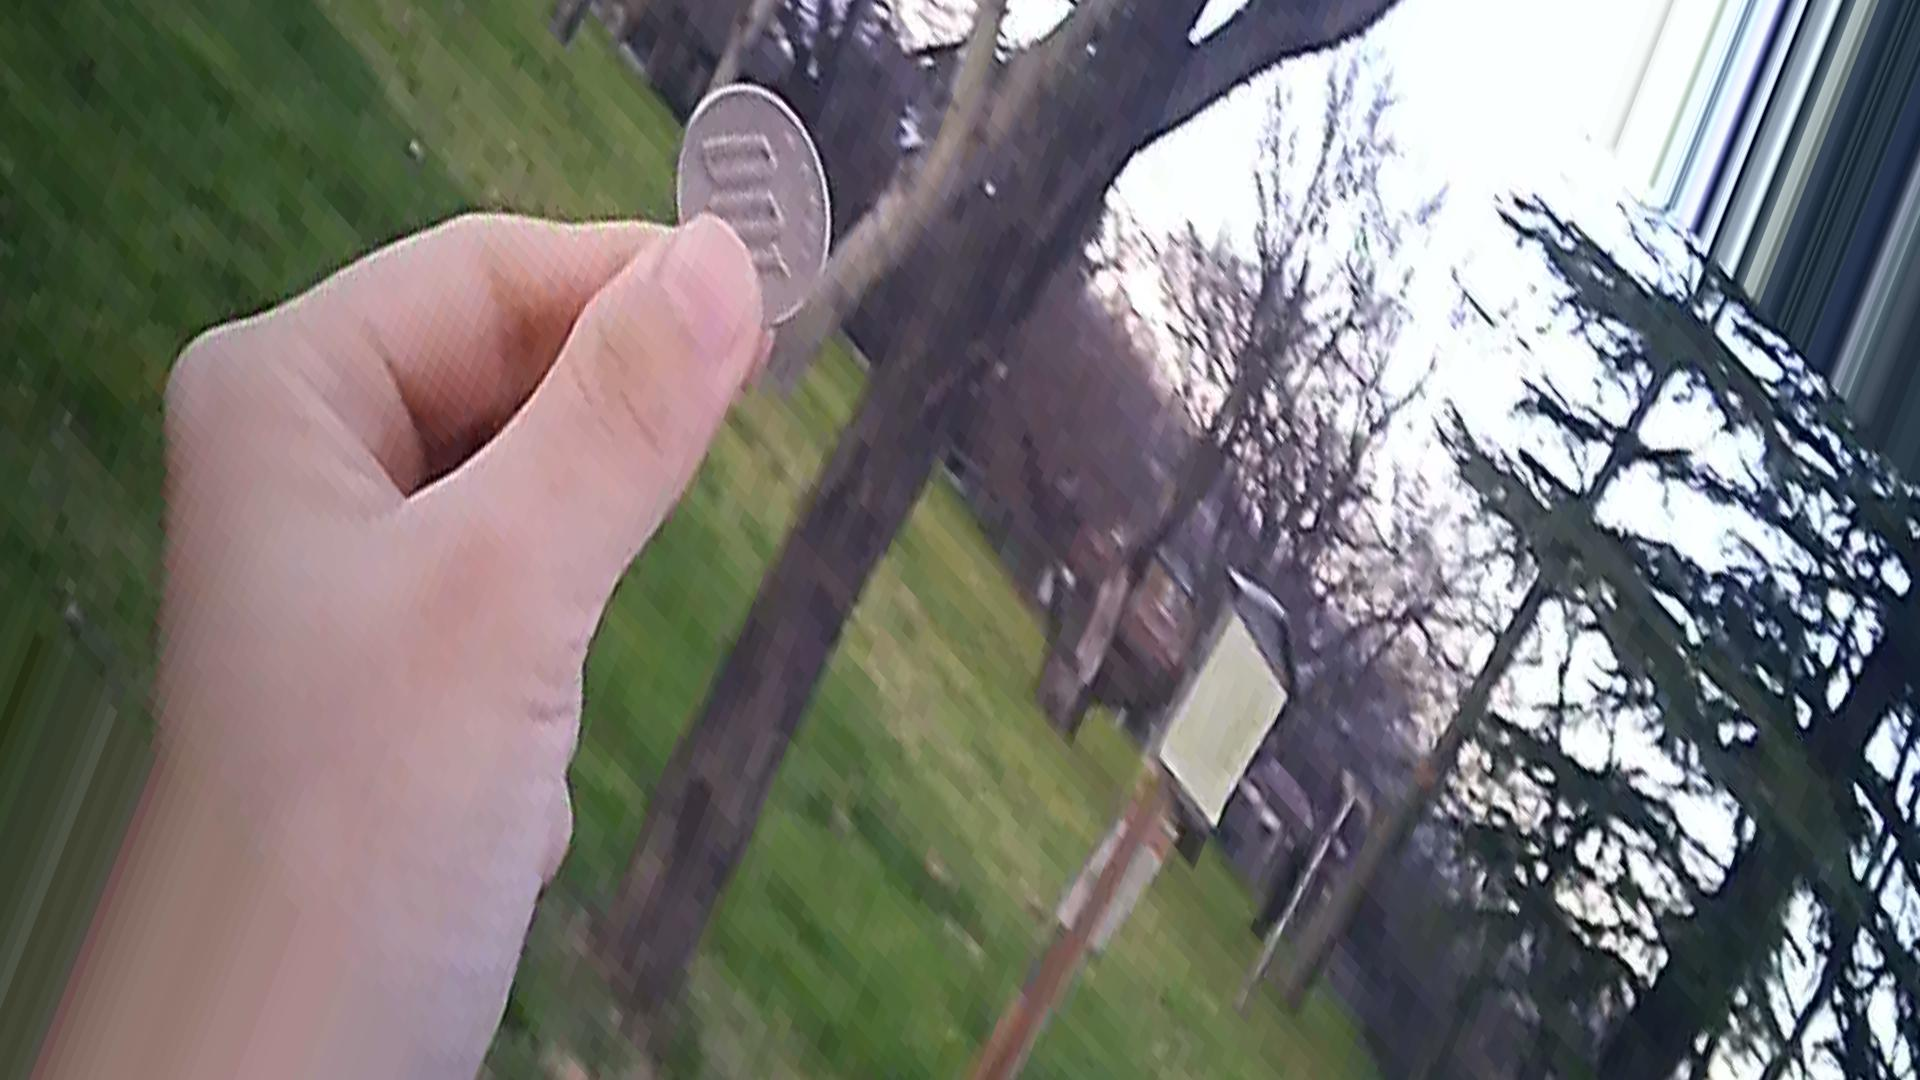100 Yen: (663, 83, 829, 324)
